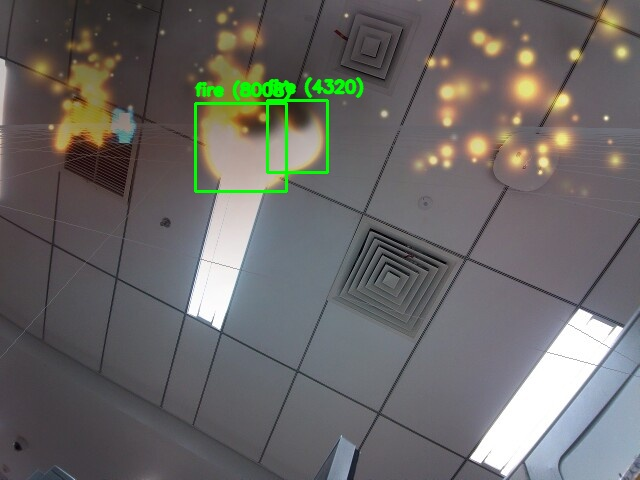fire: (195, 103, 286, 191), (267, 100, 327, 172)
